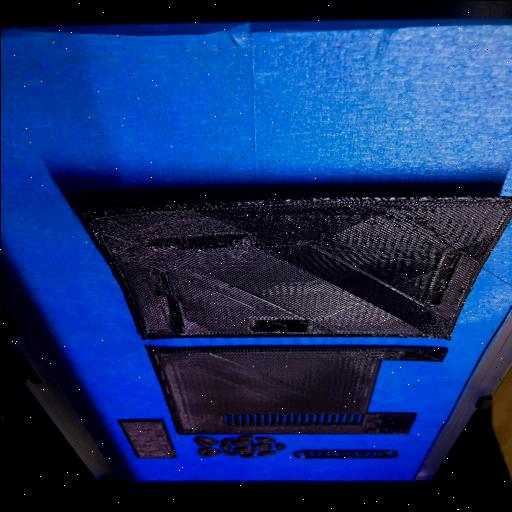stringing: (453, 179, 512, 251)
